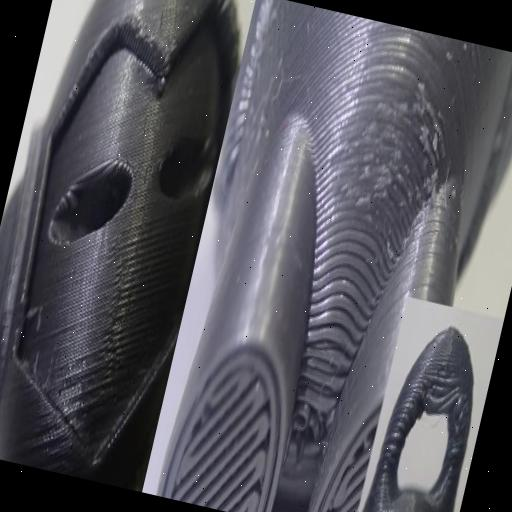cracks: (22, 354, 119, 475), (278, 385, 342, 489), (416, 339, 474, 429)
